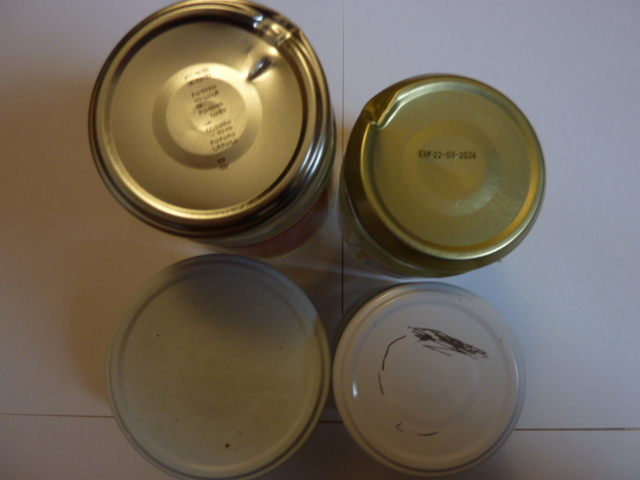damaged: (91, 3, 328, 233), (343, 71, 548, 267), (331, 284, 524, 472)
intact: (101, 255, 329, 474)
